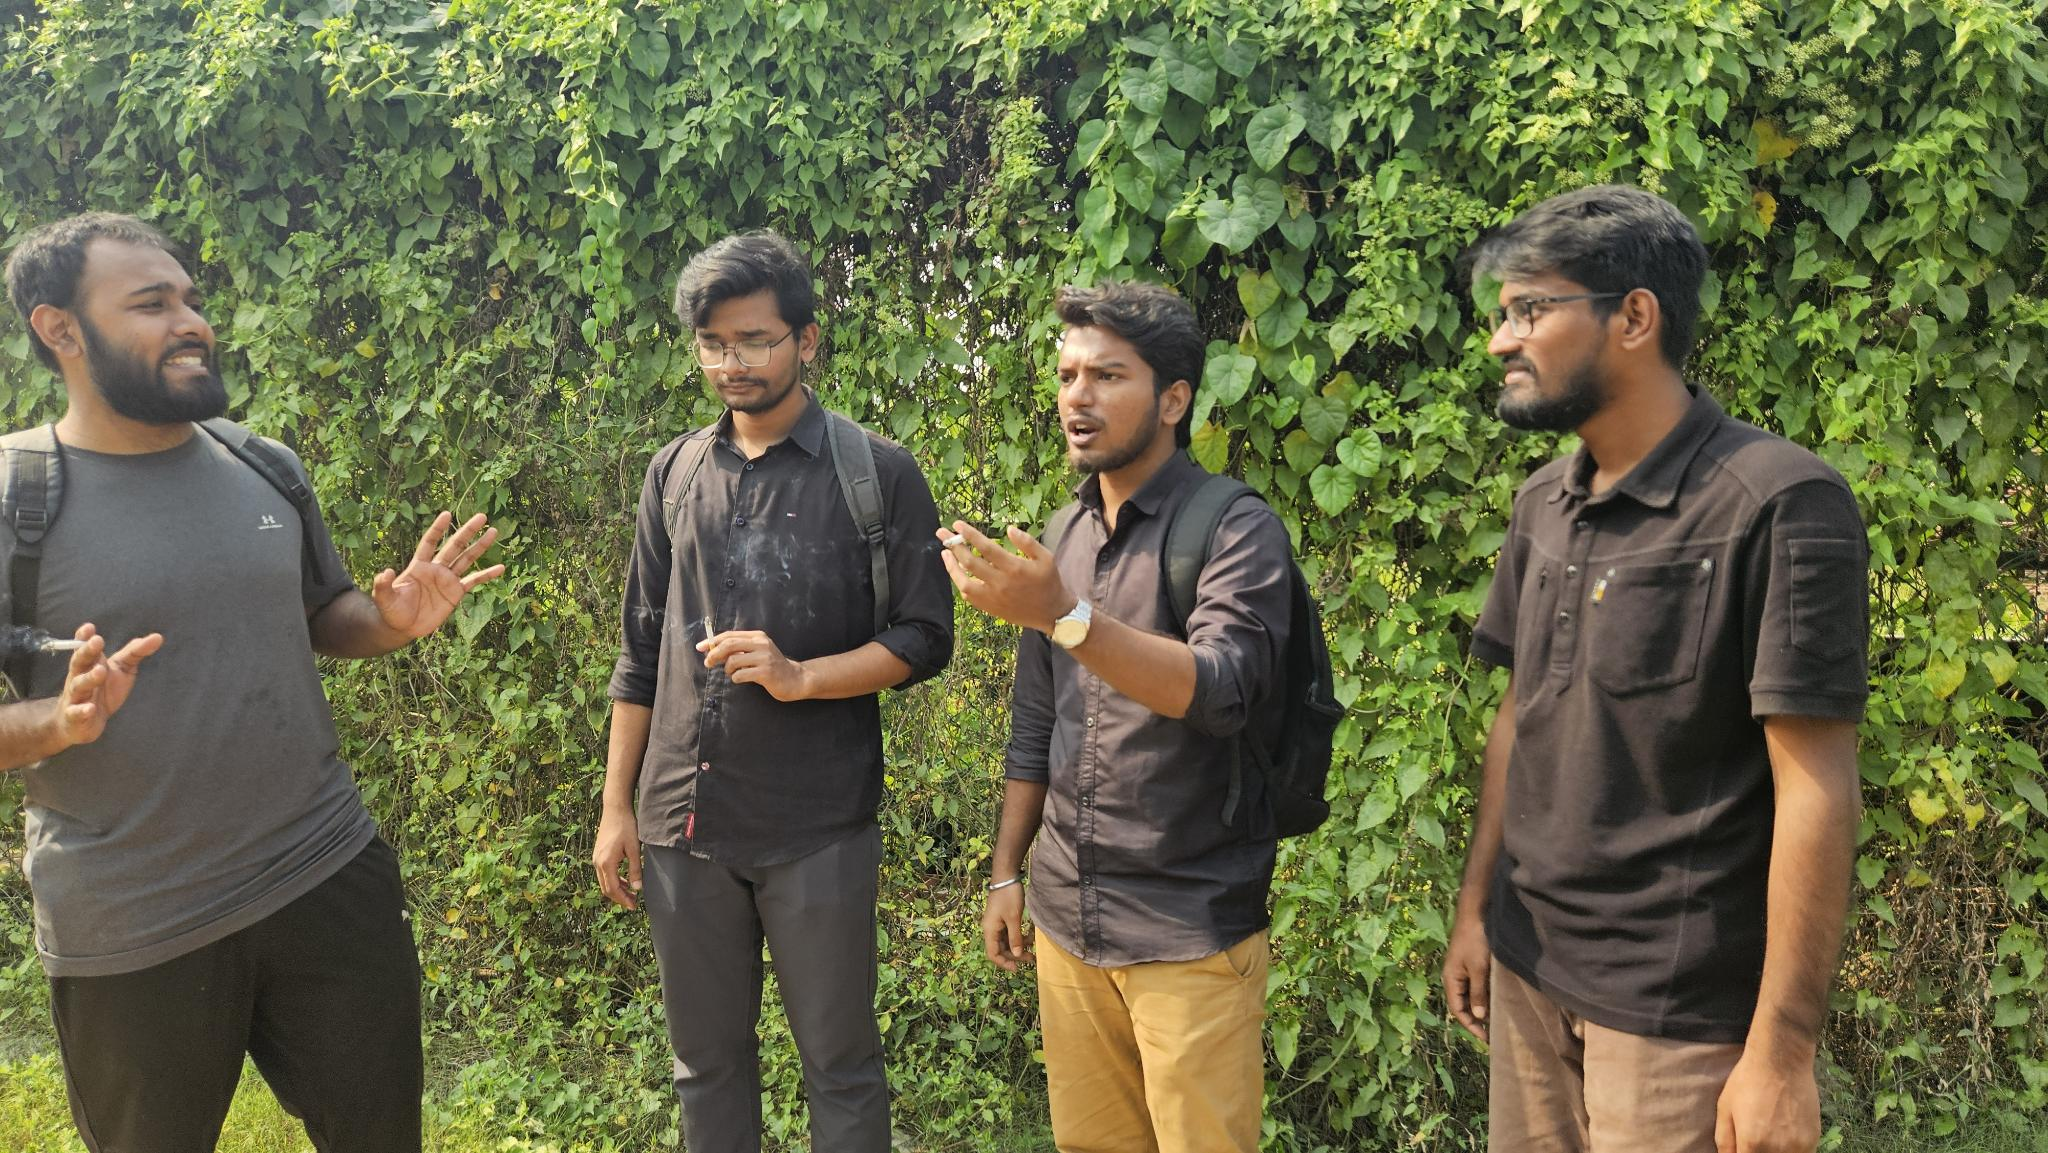cigarette: (37, 637, 89, 654), (702, 614, 716, 651), (941, 533, 966, 548)
nonSmoker: (1440, 186, 1874, 1153)
smoker: (1, 211, 505, 1153), (935, 283, 1345, 1153), (592, 238, 954, 1153)
